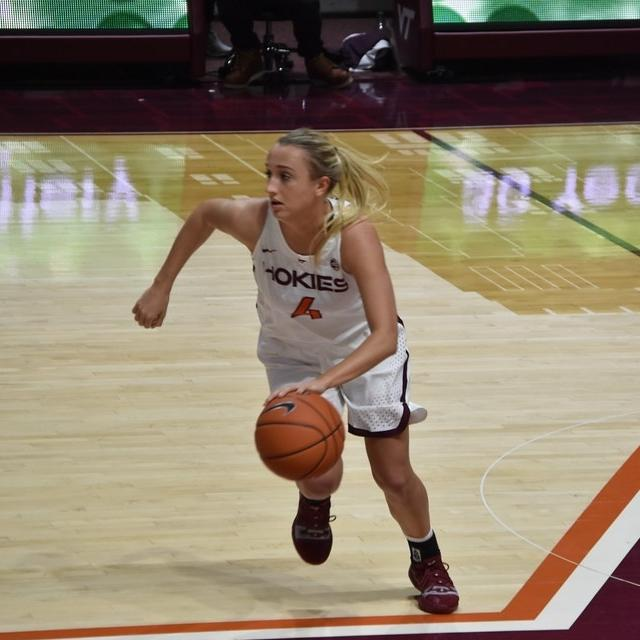basketball: (252, 385, 346, 490)
